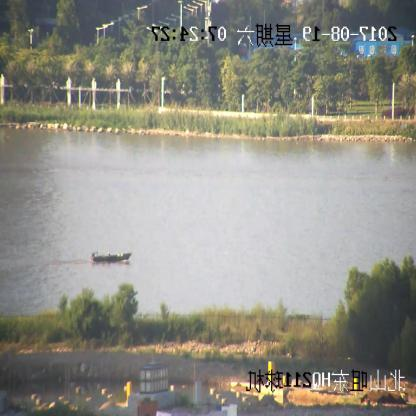Fishing Boat: (92, 250, 131, 265)
